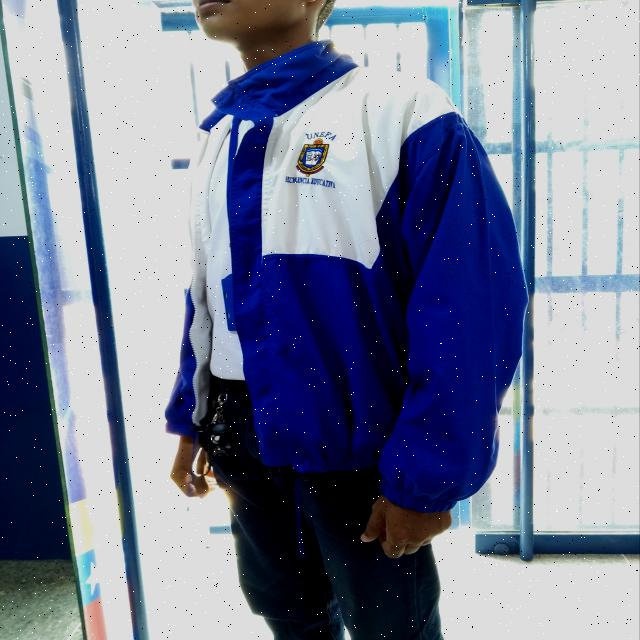chaqueta_unefa: (160, 37, 530, 514)
